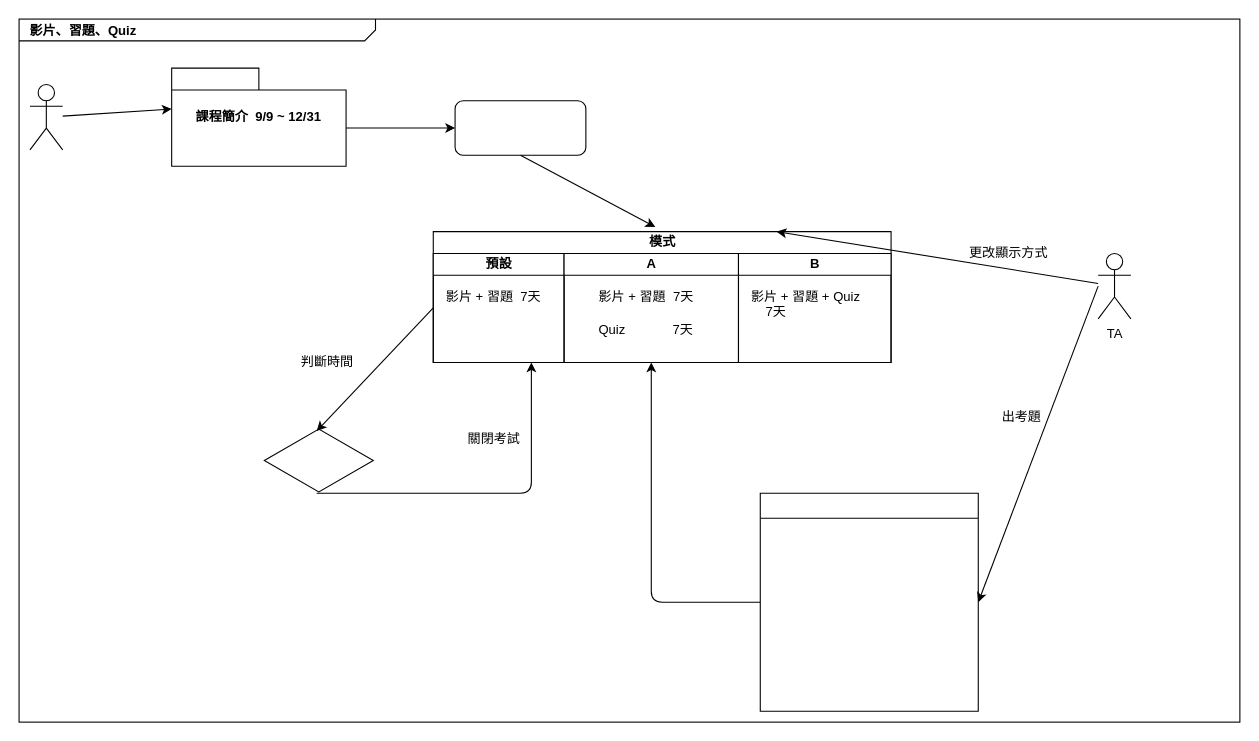
Some shapes in this 1259 by 741 pixel diagram are drawn without their labels. The centre of each missing label's shape, as x and y in pixels:
Quiz: the point at 868,601
User: the point at 46,116
影片區: the point at 520,127
